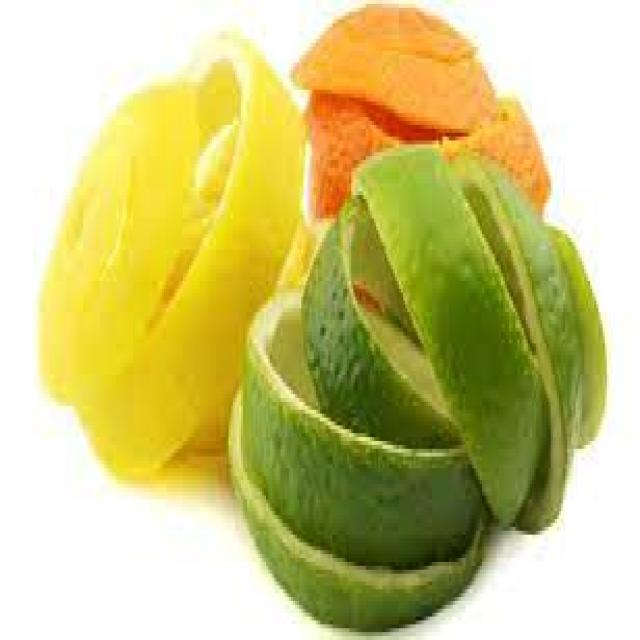Organik: (228, 139, 612, 636), (39, 39, 308, 496), (292, 3, 552, 218)
